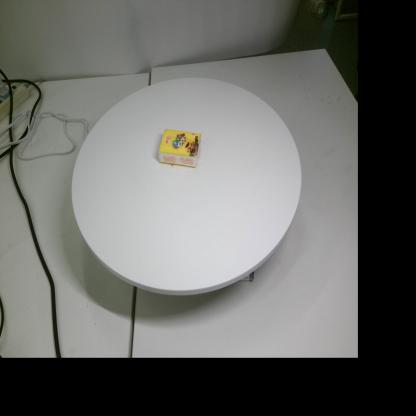Tissue: (158, 129, 202, 167)
